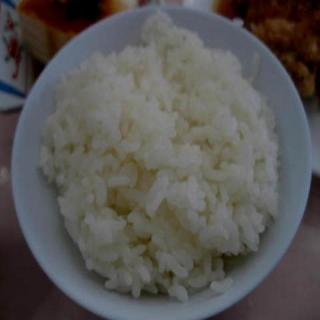Nasi: (34, 10, 282, 305)
